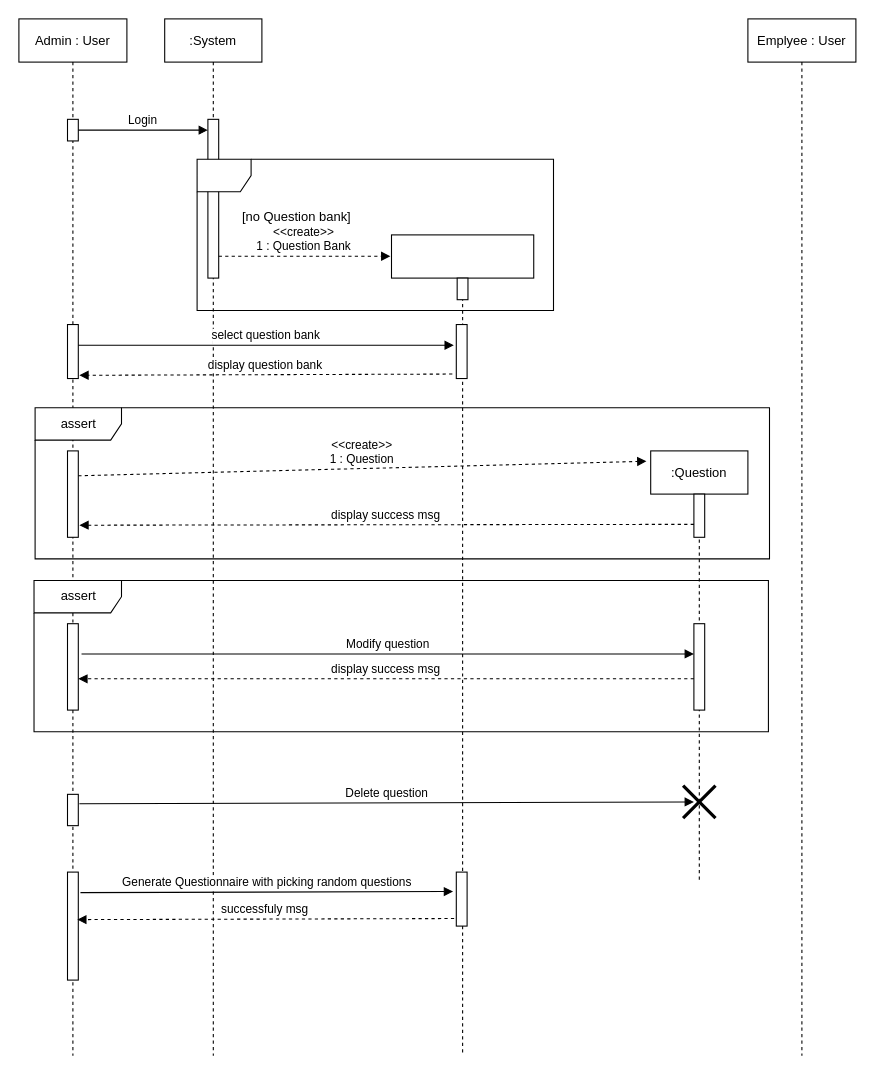
This 875x1075 diagram has some shape labels left out. The shapes that lost their labels are listed below. From the top down, each one's box as (x1, y1, x2, y2) in pixels, then its label:
(196, 158, 554, 310): opt
(390, 234, 534, 1056): QBank1 : Question Bank
